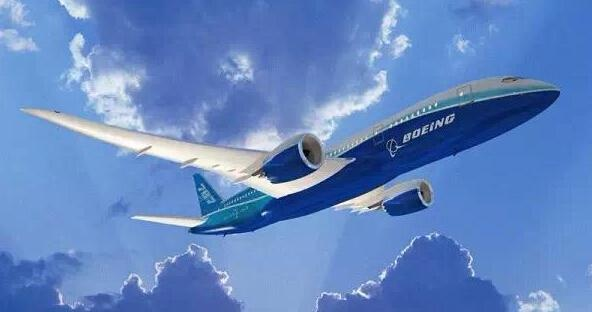airplane: (13, 70, 562, 235)
